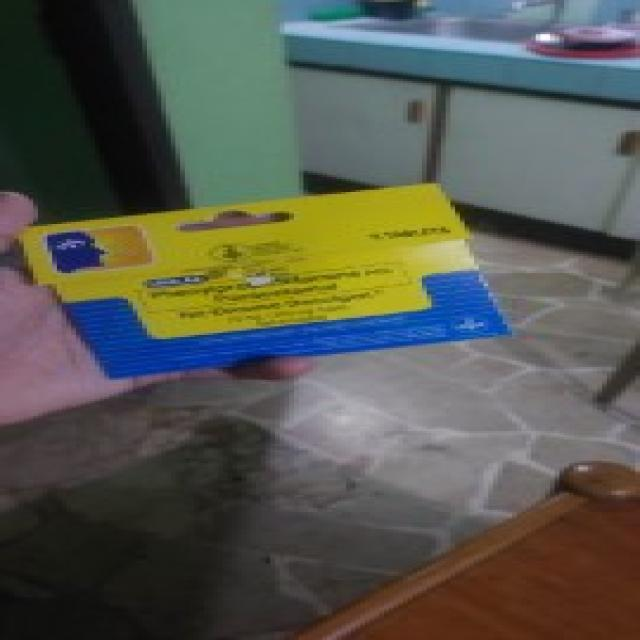Cacat: (19, 179, 514, 378)
